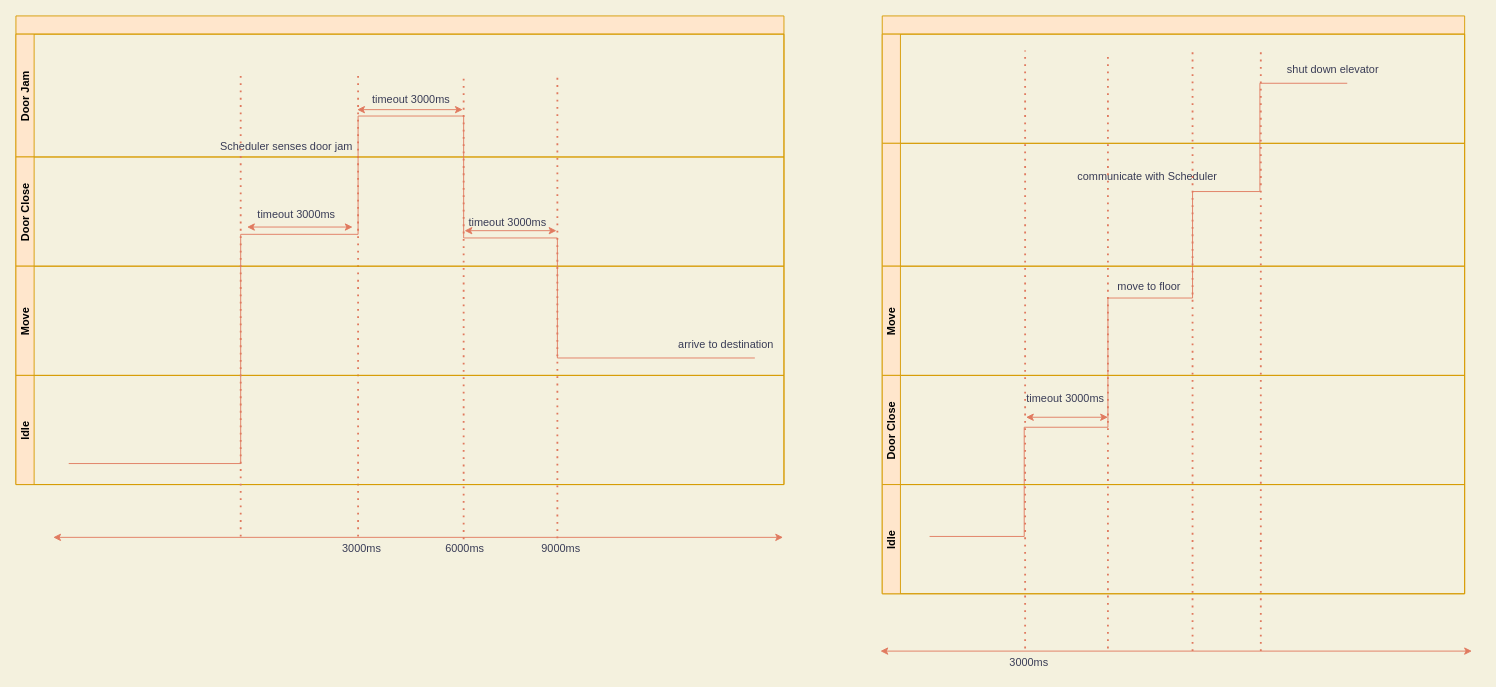
Some shapes in this 1496 by 687 pixel diagram are drawn without their labels. The shapes that lost their labels are listed below. From the top down, each one's box as (x1, y1, x2, y2) in pixels, then its label:
(881, 33, 1465, 143): Terminate
(881, 142, 1465, 266): Stuck Floor
(15, 15, 784, 485): Transient Fault
(881, 15, 1465, 594): Hard Fault
